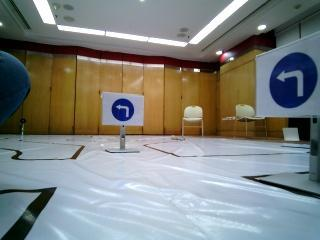left: (259, 57, 320, 114), (103, 95, 138, 125)
